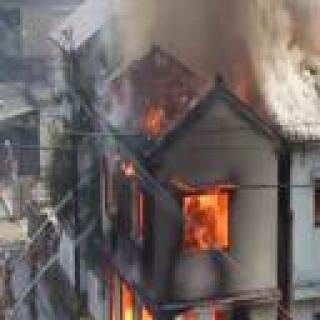fire: (71, 111, 295, 320), (300, 161, 320, 242)
